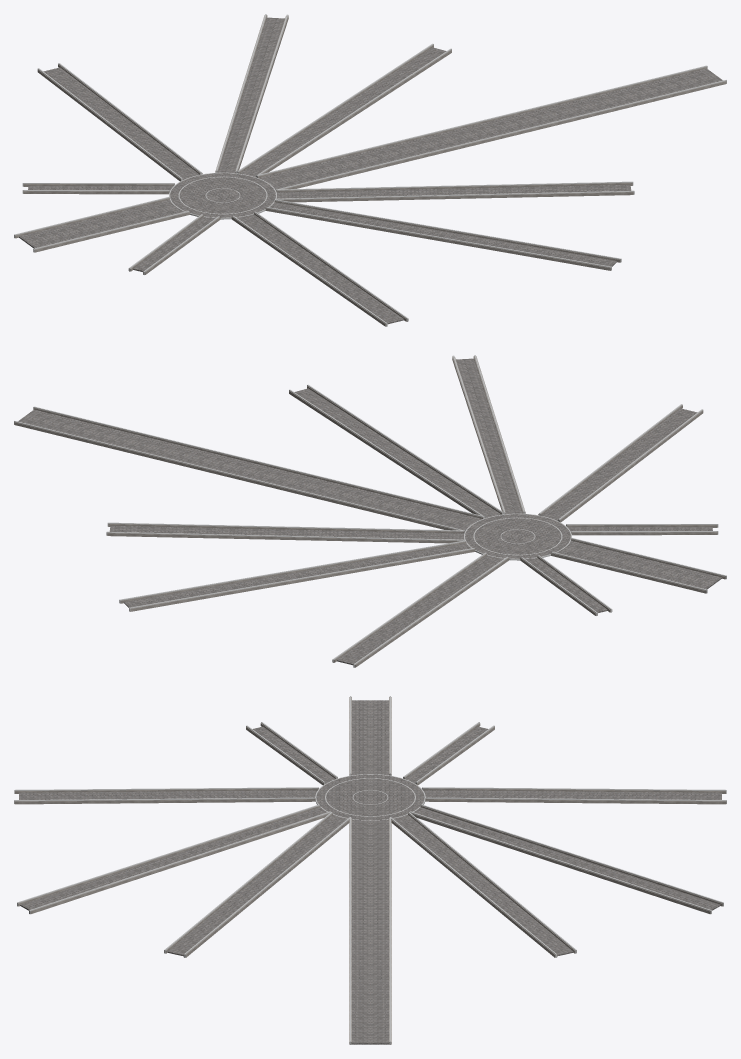
File: SM_ParkCircle.fbx
The picture shows the model from 3 angles, top to bottom: view 1: azimuth 30°, elevation 25°; view 2: azimuth 150°, elevation 25°; view 3: azimuth 270°, elevation 25°; orthographic projection. The views are drawn at different scales.
Visible parts, largest first — view 1: SM_ParkCircle_LOD0; view 2: SM_ParkCircle_LOD0; view 3: SM_ParkCircle_LOD0.
Part boxes in pixels (x1,y1,x2,y2): SM_ParkCircle_LOD0: [14, 14, 726, 326]; SM_ParkCircle_LOD0: [14, 355, 726, 667]; SM_ParkCircle_LOD0: [14, 696, 726, 1044].
Size of the model in its own units: 6044 by 29.25 by 5272.
